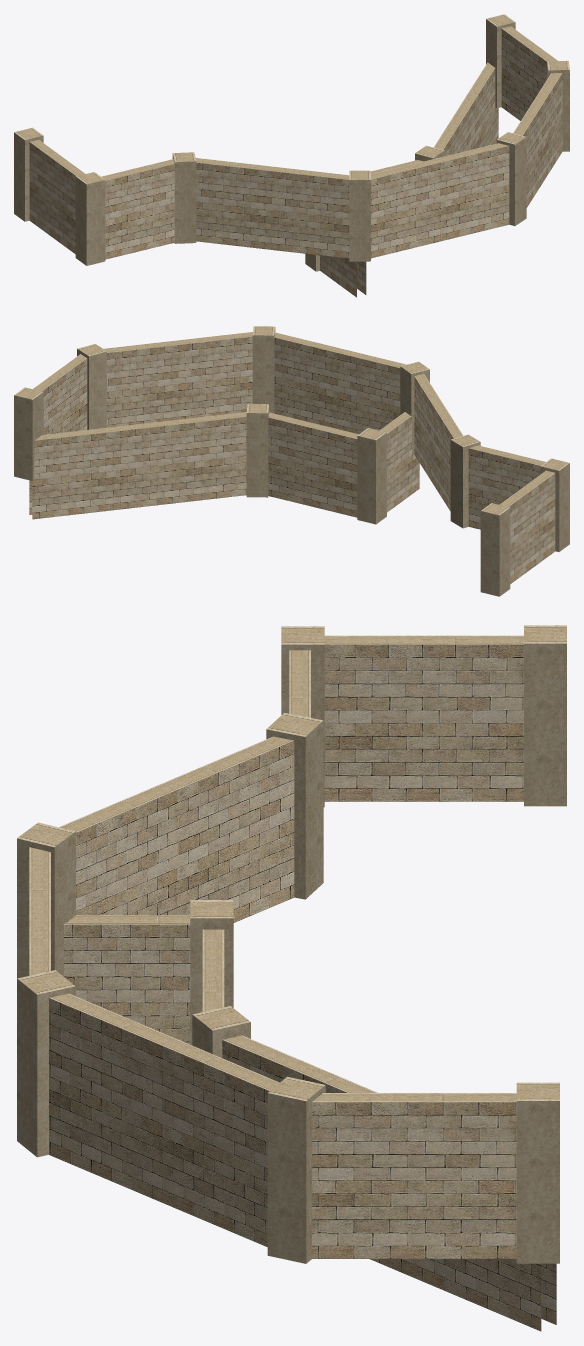
File: poi_nboo_corral_half_32x32_s02_l0.fbx
3 renders of one model, top to bottom at view 1: azimuth 30°, elevation 25°; view 2: azimuth 150°, elevation 25°; view 3: azimuth 270°, elevation 25°, orthographic. The views are drawn at different scales.
Parts seen in each view (by area): view 1: mesh_node; view 2: mesh_node; view 3: mesh_node.
Part boxes in pixels (x1=…): mesh_node: x1=14, y1=14, x2=569, y2=297; mesh_node: x1=14, y1=326, x2=569, y2=596; mesh_node: x1=17, y1=625, x2=566, y2=1331.
Bounding box in the file's own units: 26.02 × 6.15 × 12.71.
